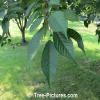Cherry leaf: (24, 24, 47, 73), (53, 29, 80, 68), (41, 39, 58, 92), (49, 11, 70, 41), (67, 26, 87, 57), (23, 8, 42, 34), (28, 14, 46, 35), (23, 2, 37, 18), (2, 16, 10, 39)
